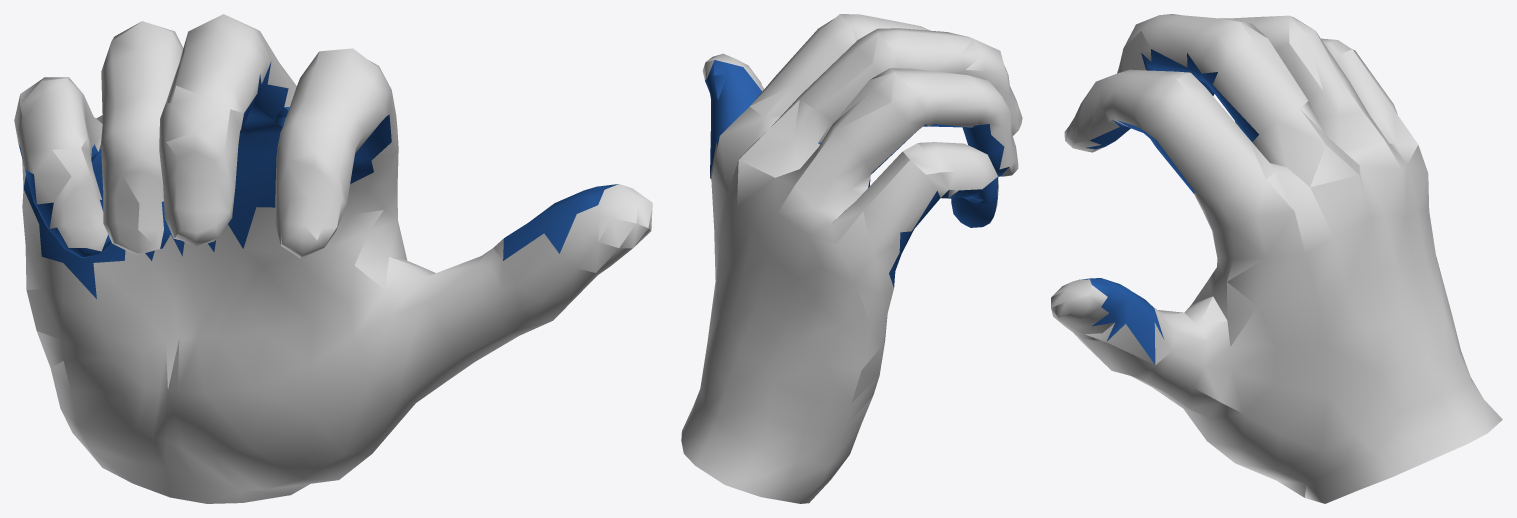
The model's file is video_spray.glb.
3 renders of one model, left to right at view 1: azimuth 30°, elevation 25°; view 2: azimuth 150°, elevation 25°; view 3: azimuth 270°, elevation 25°, orthographic. The views are drawn at different scales.
Parts seen in each view (by area): view 1: mesh0; view 2: mesh0; view 3: mesh0.
Part boxes in pixels (<box>): mesh0: <box>14,14,652,503</box>; mesh0: <box>681,14,1022,503</box>; mesh0: <box>1051,14,1502,503</box>.
Size of the model in its own units: 0.1442 by 0.1517 by 0.1409.
